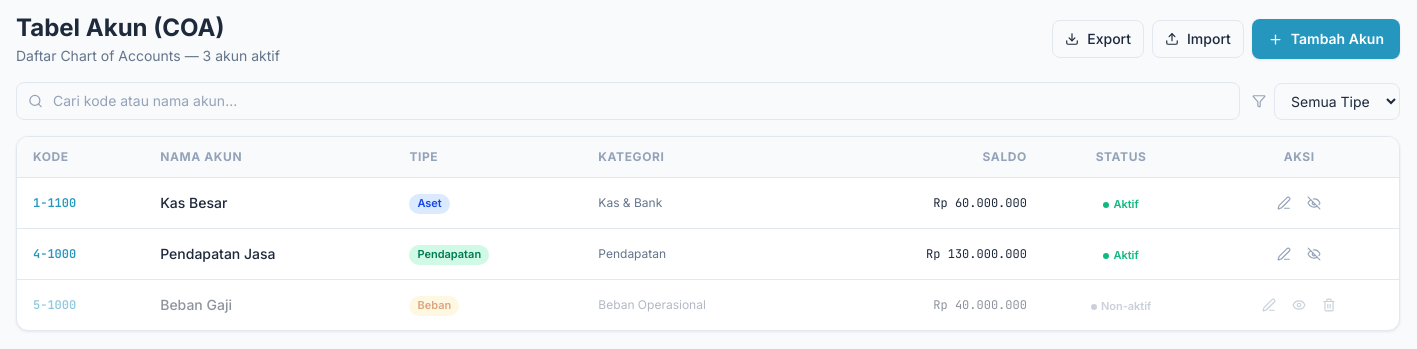
Scenario: AccountsPage › filter berdasarkan tipe akun
expect the text "Kas Besar" is shown: met, box [144,178,393,228]
Select "Aset" in the dropdown showing "Semua Tipe" at (1337, 101), box [1274,82,1400,120]
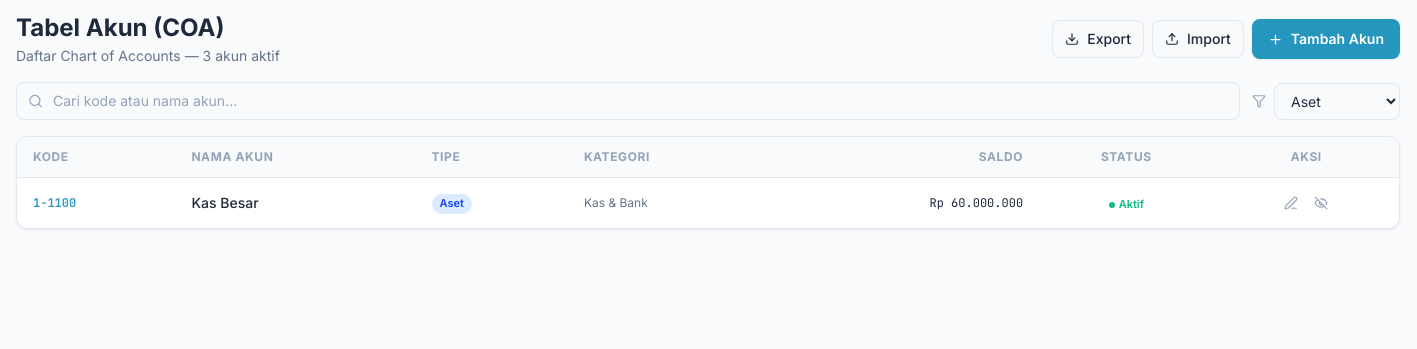
expect the text "Kas Besar" is shown: met, box [175,178,416,228]
expect the text "Pendapatan Jasa" is gone: met
